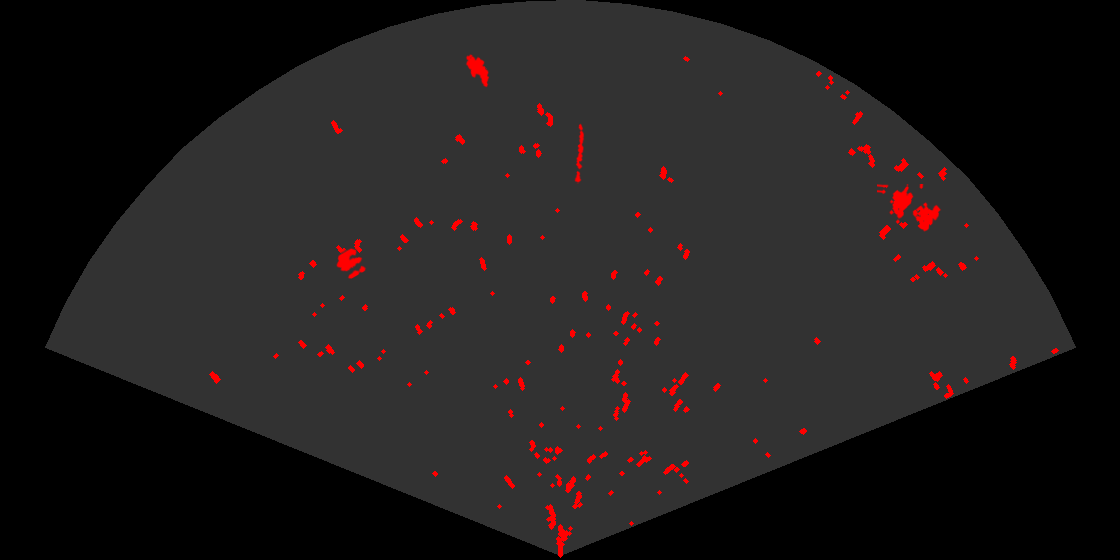AUV: (464, 53, 491, 89)
ball: (335, 247, 368, 280)
cage: (877, 184, 943, 233)
chain: (573, 123, 586, 184)
